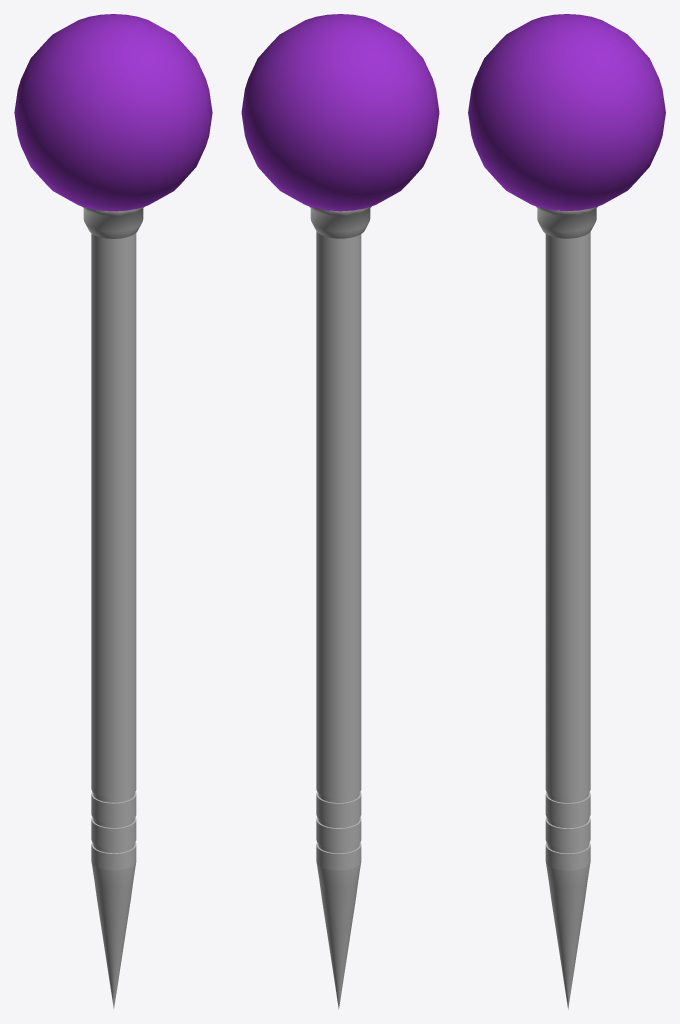
Rendered from DARKORCHID.glb.
3 renders of one model, left to right at view 1: azimuth 30°, elevation 25°; view 2: azimuth 150°, elevation 25°; view 3: azimuth 270°, elevation 25°, orthographic.
Visible parts, largest first — view 1: Needle, Sphere, Ball_Holder; view 2: Needle, Sphere, Ball_Holder; view 3: Needle, Sphere, Ball_Holder.
Part boxes in pixels (x1=…): Needle: x1=91, y1=233, x2=136, y2=1008; Sphere: x1=14, y1=14, x2=212, y2=211; Ball_Holder: x1=82, y1=206, x2=144, y2=238; Needle: x1=316, y1=231, x2=361, y2=1009; Sphere: x1=241, y1=14, x2=439, y2=211; Ball_Holder: x1=309, y1=206, x2=371, y2=238; Needle: x1=545, y1=232, x2=590, y2=1009; Sphere: x1=468, y1=14, x2=665, y2=211; Ball_Holder: x1=536, y1=206, x2=597, y2=238.
Size of the model in its own units: 2.2 by 12.1 by 2.2.
